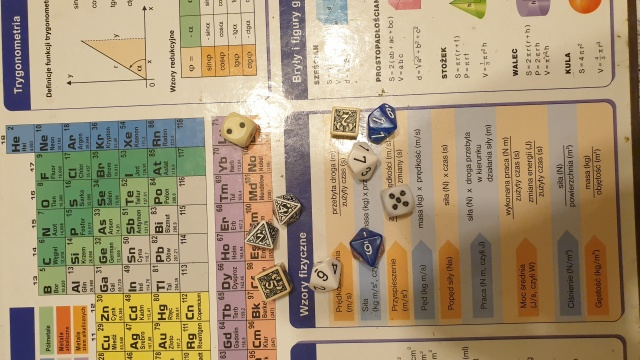d10-1: (366, 100, 394, 145)
d10-6: (306, 257, 342, 294), (361, 238, 376, 261)
d10-7: (344, 143, 382, 184)
d6-2: (220, 113, 252, 145)
d6-5: (379, 184, 415, 220)
d6p-2: (330, 102, 359, 139)
d6p-5: (253, 264, 293, 304)
d8p-4: (268, 192, 301, 225)
d8p-7: (242, 217, 278, 252)
